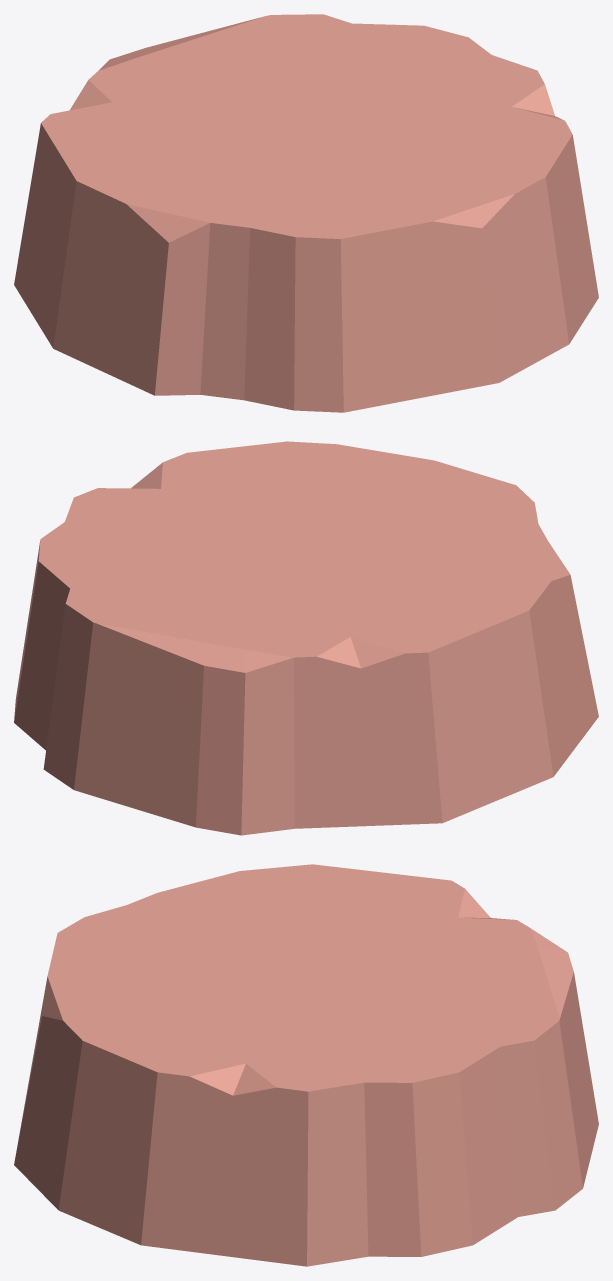
File: Cylinder_002_Vlad.fbx
3 views of the same model, one above another, from view 1: azimuth 30°, elevation 25°; view 2: azimuth 150°, elevation 25°; view 3: azimuth 270°, elevation 25° (orthographic).
Parts seen in each view (by area): view 1: Cylinder.002; view 2: Cylinder.002; view 3: Cylinder.002.
Part boxes in pixels (x1,y1,x2,y2): Cylinder.002: (14,14,598,412); Cylinder.002: (14,441,598,835); Cylinder.002: (14,864,598,1266).
Bounding box in the file's own units: 327 × 100 × 323.
